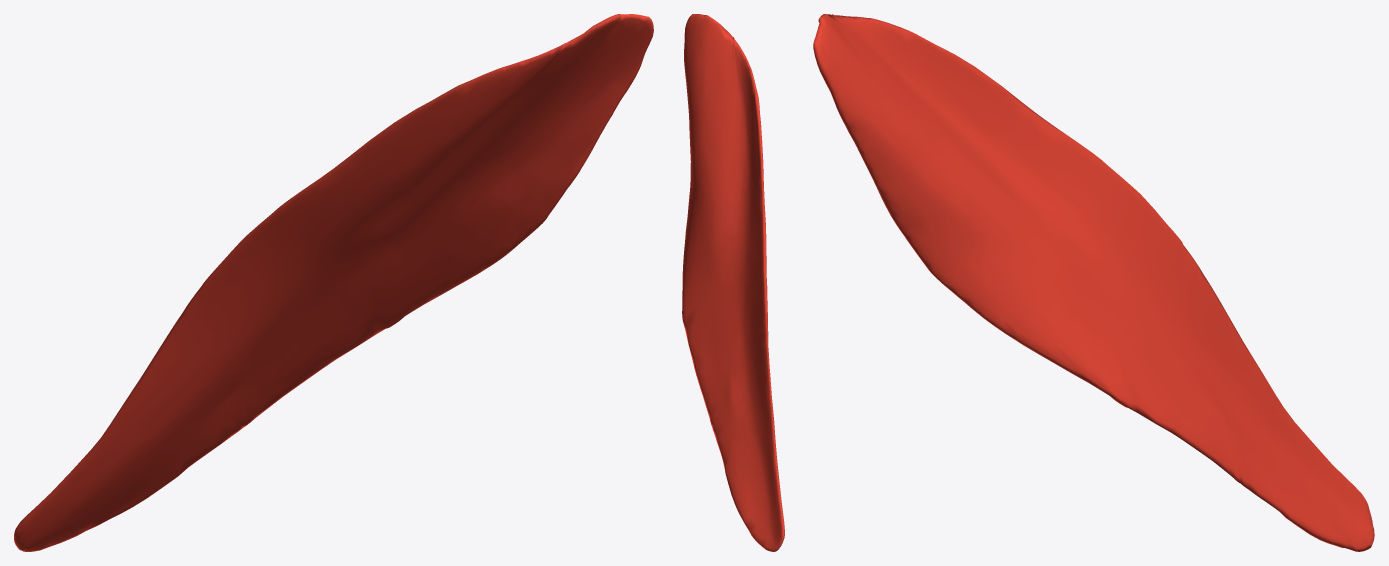
The model's file is Teres_minor_muscle-Scapular_insertion.l_Generated_Mesh_From_X3D.glb.
3 views of the same model, side by side, from view 1: azimuth 30°, elevation 25°; view 2: azimuth 150°, elevation 25°; view 3: azimuth 270°, elevation 25° (orthographic). The views are drawn at different scales.
Parts seen in each view (by area): view 1: Teres_minor_muscle-Scapular_insertion.l_Generated_Mesh_From_; view 2: Teres_minor_muscle-Scapular_insertion.l_Generated_Mesh_From_; view 3: Teres_minor_muscle-Scapular_insertion.l_Generated_Mesh_From_.
Boxes of the visible parts, x1,y1,x2,y2 form: Teres_minor_muscle-Scapular_insertion.l_Generated_Mesh_From_: (14, 14, 653, 551); Teres_minor_muscle-Scapular_insertion.l_Generated_Mesh_From_: (682, 14, 784, 551); Teres_minor_muscle-Scapular_insertion.l_Generated_Mesh_From_: (813, 14, 1374, 551).
Size of the model in its own units: 0.0365 by 0.0546 by 0.0387.
